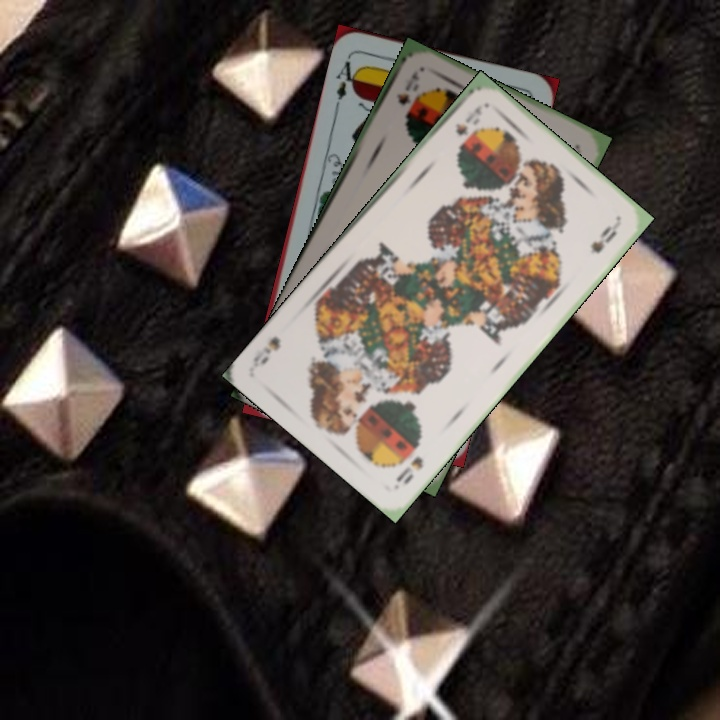EA: (331, 57, 362, 110)
SO: (391, 452, 426, 490), (451, 102, 485, 139), (392, 68, 422, 108)
